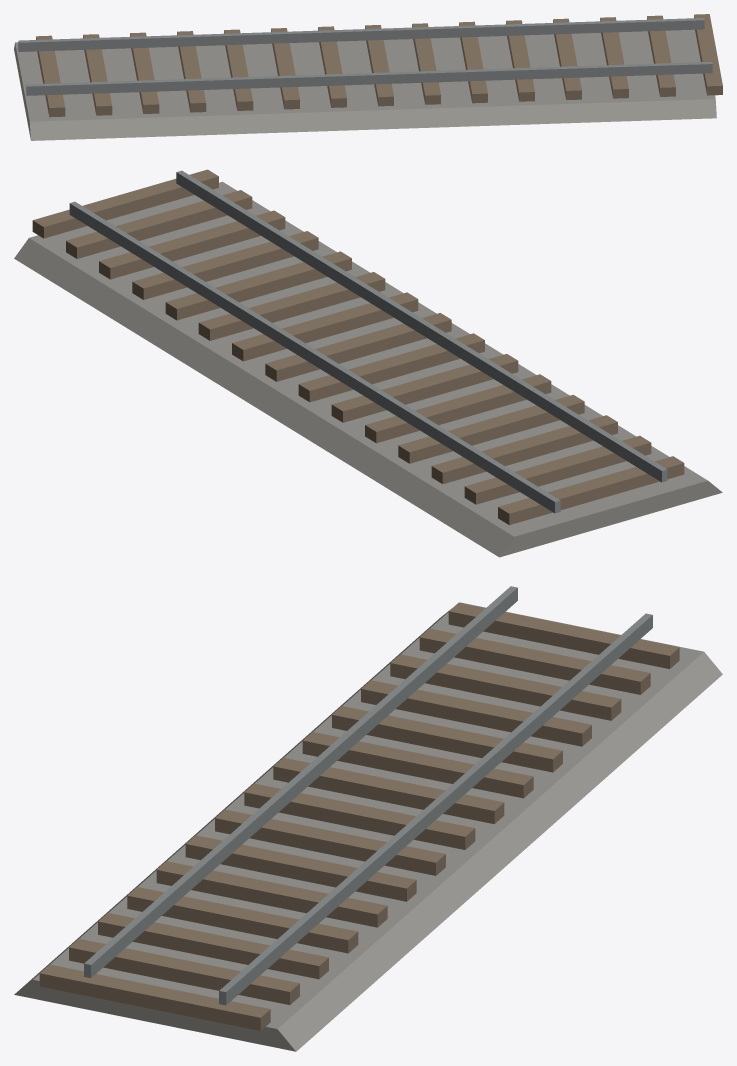
Rendered from rail_01195.glb.
3 renders of one model, top to bottom at view 1: azimuth 30°, elevation 25°; view 2: azimuth 150°, elevation 25°; view 3: azimuth 270°, elevation 25°, orthographic. The views are drawn at different scales.
Parts seen in each view (by area): view 1: Ballast, Rails, Sleepers; view 2: Sleepers, Ballast, Rails; view 3: Sleepers, Ballast, Rails.
Boxes of the visible parts, left/top/right/bottom form: Ballast: left=14, top=29, right=716, bottom=140; Rails: left=18, top=18, right=712, bottom=95; Sleepers: left=36, top=14, right=722, bottom=117; Sleepers: left=32, top=169, right=684, bottom=525; Ballast: left=14, top=181, right=722, bottom=557; Rails: left=69, top=170, right=667, bottom=513; Sleepers: left=39, top=602, right=679, bottom=1030; Ballast: left=14, top=602, right=722, bottom=1051; Rails: left=84, top=586, right=652, bottom=1005.
Size of the model in its own units: 9.86 by 0.48 by 6.8.
